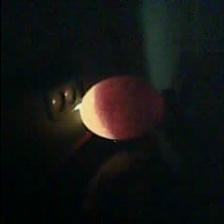fertile: (76, 74, 166, 144)
